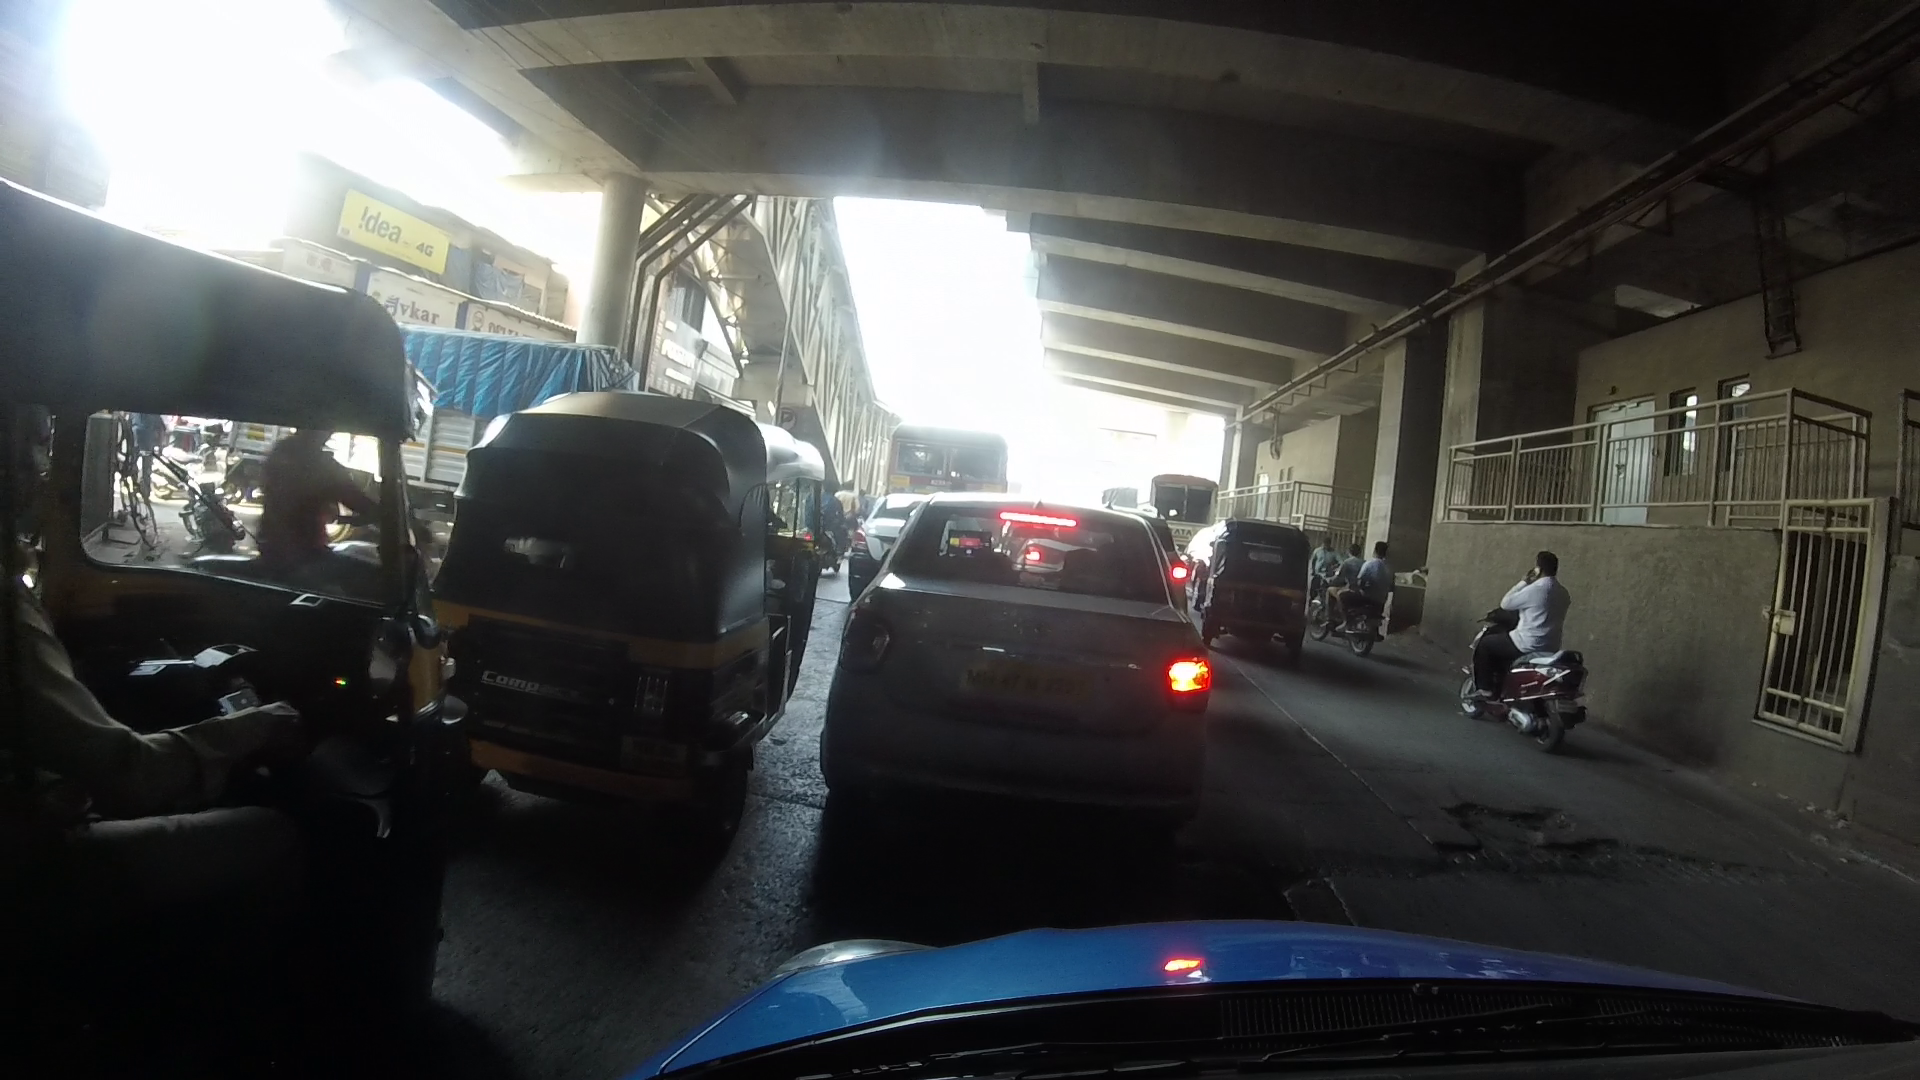bike/scooter: (1452, 556, 1578, 742)
car: (852, 492, 1216, 807)
rickshaw: (18, 177, 443, 1051), (481, 382, 837, 769), (1205, 513, 1313, 654)
